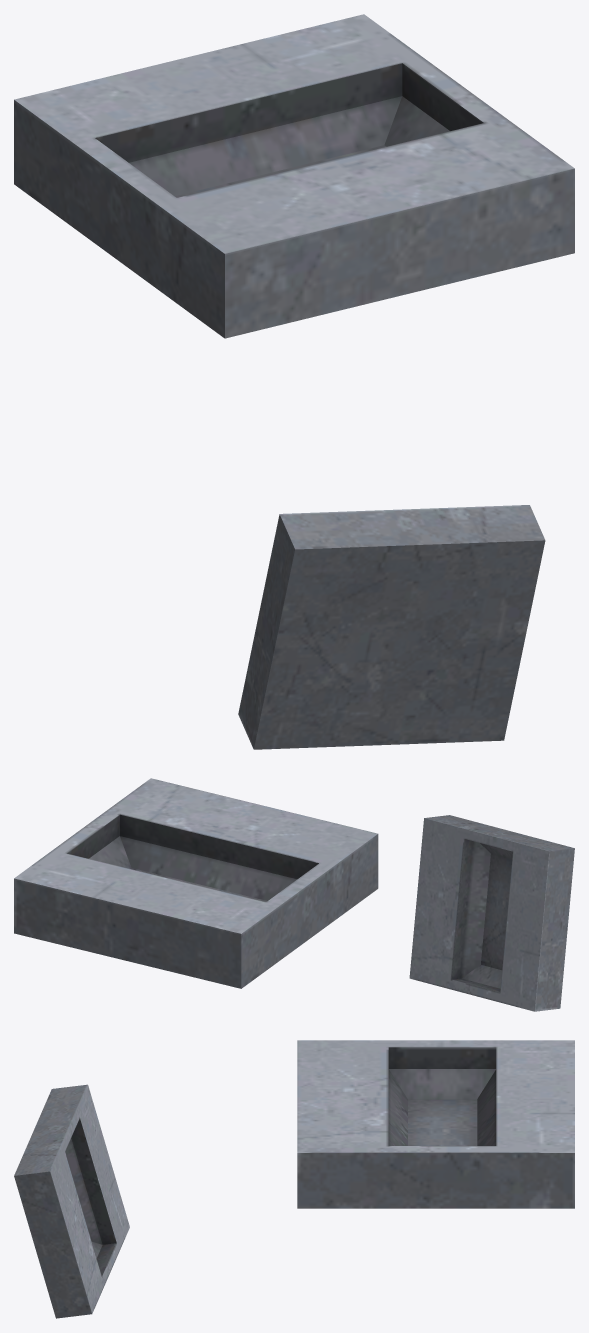
Rendered from IngotMold.glb.
The picture shows the model from 3 angles, top to bottom: view 1: azimuth 30°, elevation 25°; view 2: azimuth 150°, elevation 25°; view 3: azimuth 270°, elevation 25°; orthographic projection. The views are drawn at different scales.
Visible parts, largest first — view 1: WorldModel, castingmold; view 2: WorldModel, castingmold; view 3: WorldModel, castingmold.
Boxes of the visible parts, <box> form: WorldModel: <box>14,14,574,338</box>; castingmold: <box>238,505,545,749</box>; WorldModel: <box>14,778,378,988</box>; castingmold: <box>409,815,574,1011</box>; WorldModel: <box>297,1040,574,1208</box>; castingmold: <box>14,1084,129,1318</box>.
Bounding box in the file's own units: 0.7407 × 0.5592 × 1.15.
1 material, 1 textured.
